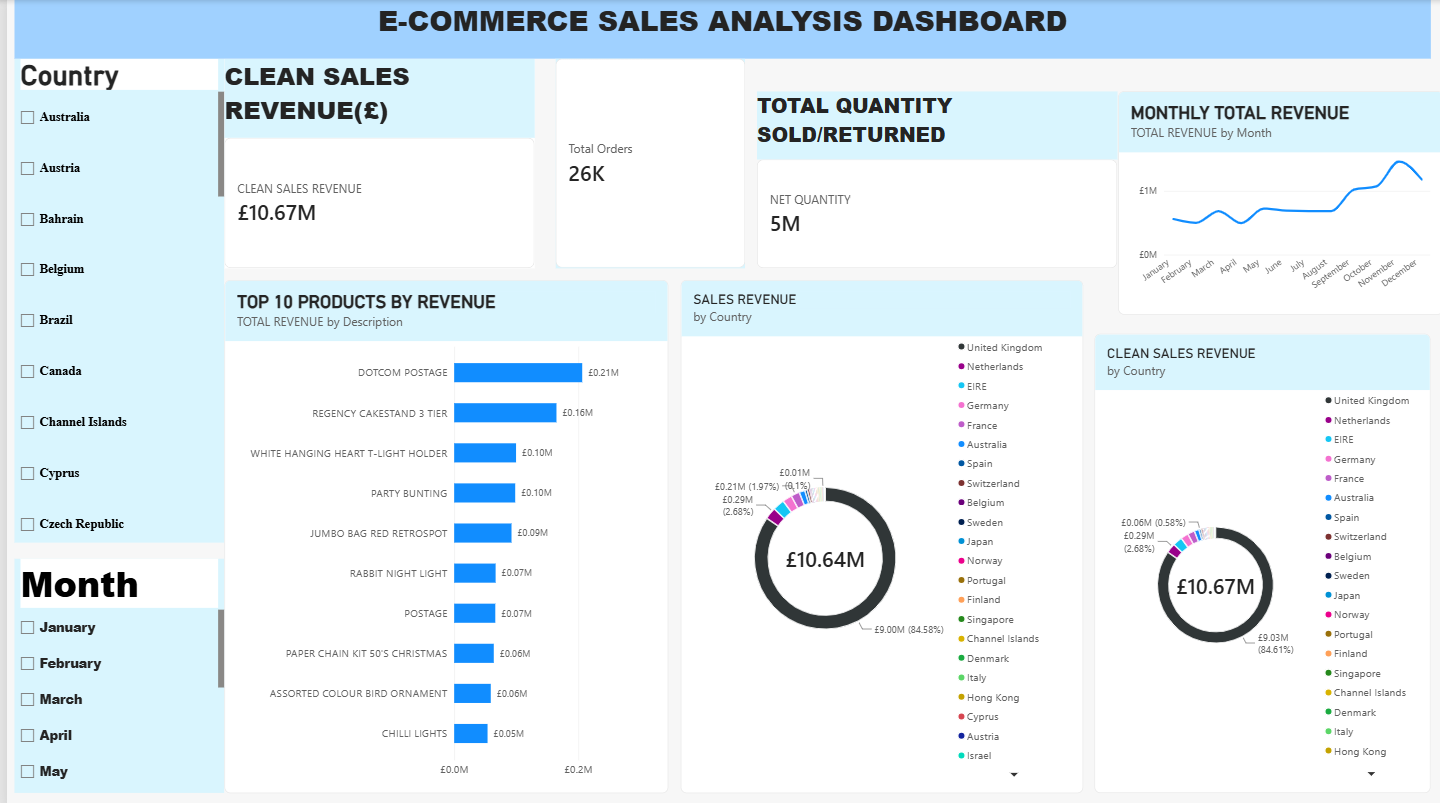

The dashboard page shown, as its layout file describes it:
{"tool":"powerbi","page":{"name":"E-Commerce Sales Anaysis","canvas":[1920,1080],"ordinal":0},"visuals":[{"type":"clusteredBarChart","title":"TOP 10 PRODUCTS BY REVENUE","fields":{"Category":["RetailData.Description"],"Y":["RetailData.TOTAL REVENUE"]},"box":[290.2,374.6,592.8,685.4],"z":0},{"type":"cardVisual","title":"CLEAN SALES REVENUE(£)","fields":{"Data":["RetailData.CLEAN SALES REVENUE"]},"box":[290.2,78.2,414,280],"z":1000},{"type":"cardVisual","title":"TOTAL QUANTITY SOLD/RETURNED","fields":{"Data":["RetailData.NET QUANTITY"]},"box":[1002.4,121.4,481.6,236.7],"z":2000},{"type":"lineChart","title":"MONTHLY TOTAL REVENUE","fields":{"Category":["RetailData.InvoiceDate.Variation.Date Hierarchy.Month"],"Y":["RetailData.TOTAL REVENUE"]},"box":[1484.1,121.4,434.3,298.5],"z":3000},{"type":"slicer","fields":{"Values":["RetailData.Country"]},"box":[10.3,78.2,279.9,646.3],"z":4000},{"type":"textbox","box":[10.3,0,1891.6,78.2],"z":5000},{"type":"slicer","fields":{"Values":["RetailData.InvoiceDate.Variation.Date Hierarchy.Month"]},"box":[10.3,747.2,279.9,312.9],"z":6000},{"type":"donutChart","fields":{"Category":["RetailData.Country"],"Y":["RetailData.SALES REVENUE"]},"box":[899.5,374.6,537.2,685.4],"z":7000},{"type":"donutChart","fields":{"Category":["RetailData.Country"],"Y":["RetailData.CLEAN SALES REVENUE"]},"box":[1453.2,446.7,448.7,613.4],"z":8000},{"type":"cardVisual","fields":{"Data":["RetailData.Total Orders"]},"box":[732.8,78.2,253.2,279.9],"z":9000}]}

Visuals, with their boxes in screenshot pixels (x1, y1, x2, y2), scaled from the page's 1920x1080 canvas onto the 1440x803 screenshot:
"TOP 10 PRODUCTS BY REVENUE" clusteredBarChart: box=[218, 279, 662, 788]
"CLEAN SALES REVENUE(£)" cardVisual: box=[218, 58, 528, 266]
"TOTAL QUANTITY SOLD/RETURNED" cardVisual: box=[752, 90, 1113, 266]
"MONTHLY TOTAL REVENUE" lineChart: box=[1113, 90, 1439, 312]
slicer - RetailData.Country: box=[8, 58, 218, 539]
textbox: box=[8, 0, 1426, 58]
slicer - RetailData.InvoiceDate.Variation.Date Hierarchy.Month: box=[8, 556, 218, 788]
donutChart - RetailData.Country x RetailData.SALES REVENUE: box=[675, 279, 1078, 788]
donutChart - RetailData.Country x RetailData.CLEAN SALES REVENUE: box=[1090, 332, 1426, 788]
cardVisual - RetailData.Total Orders: box=[550, 58, 740, 266]
